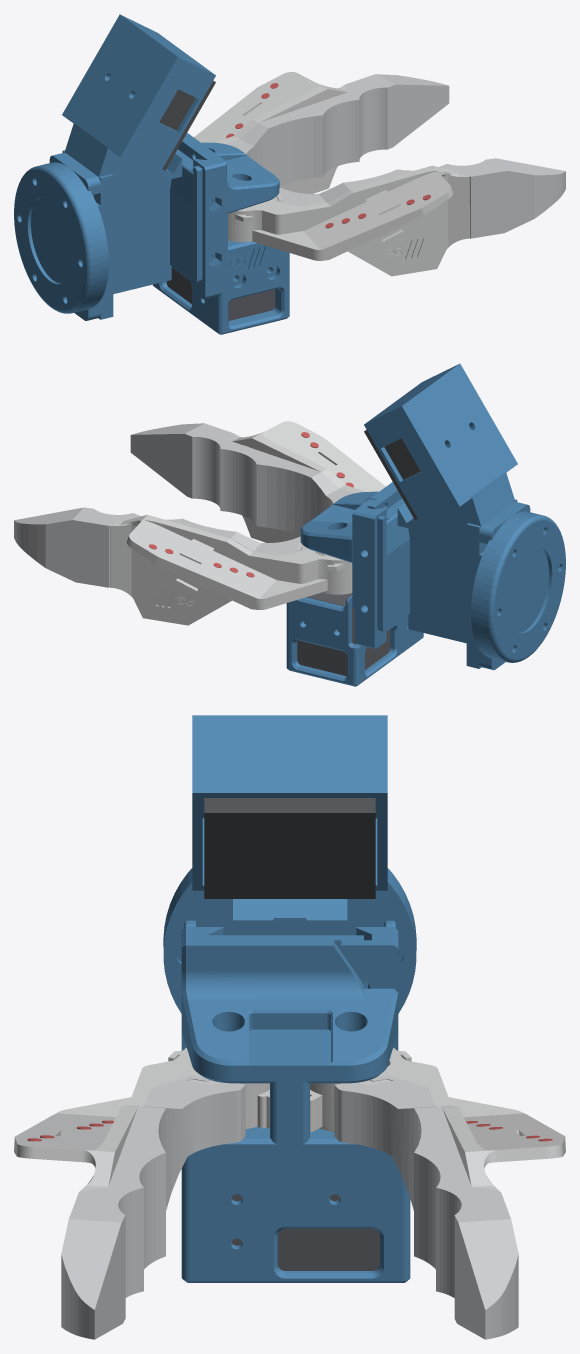
Rendered from pg_chopstick_openarm_d405.glb.
The picture shows the model from 3 angles, top to bottom: view 1: azimuth 30°, elevation 25°; view 2: azimuth 150°, elevation 25°; view 3: azimuth 270°, elevation 25°; orthographic projection. The views are drawn at different scales.
Parts seen in each view (by area): view 1: d405_frame, jaw_right, tip_tpu_left, chopstick_base_sa, openarm_adapter, tip_tpu_right, jaw_left_sa, servo_envelope, d405_envelope; view 2: d405_frame, jaw_left_sa, tip_tpu_right, openarm_adapter, chopstick_base_sa, tip_tpu_left, jaw_right, chopstick_clip_sa, servo_envelope, d405_envelope; view 3: chopstick_base_sa, d405_frame, tip_tpu_right, tip_tpu_left, d405_envelope, jaw_left_sa, jaw_right, openarm_adapter, servo_envelope, chopstick_clip_sa.
Boxes of the visible parts, bbox=[...] form: d405_frame: bbox=[62, 14, 215, 319]; jaw_right: bbox=[228, 165, 469, 276]; tip_tpu_left: bbox=[225, 74, 449, 185]; chopstick_base_sa: bbox=[153, 133, 289, 334]; openarm_adapter: bbox=[14, 152, 108, 320]; tip_tpu_right: bbox=[273, 158, 565, 238]; jaw_left_sa: bbox=[194, 72, 347, 193]; servo_envelope: bbox=[166, 267, 275, 320]; d405_envelope: bbox=[159, 80, 215, 170]; d405_frame: bbox=[364, 363, 517, 668]; jaw_left_sa: bbox=[110, 514, 352, 625]; tip_tpu_right: bbox=[130, 423, 353, 535]; openarm_adapter: bbox=[471, 501, 565, 670]; chopstick_base_sa: bbox=[286, 482, 423, 686]; tip_tpu_left: bbox=[14, 507, 306, 587]; jaw_right: bbox=[232, 421, 385, 542]; chopstick_clip_sa: bbox=[352, 499, 386, 648]; servo_envelope: bbox=[297, 592, 390, 676]; d405_envelope: bbox=[364, 430, 420, 519]; chopstick_base_sa: bbox=[181, 927, 410, 1282]; d405_frame: bbox=[183, 715, 396, 988]; tip_tpu_right: bbox=[61, 1075, 245, 1339]; tip_tpu_left: bbox=[334, 1075, 518, 1339]; d405_envelope: bbox=[204, 798, 375, 898]; jaw_left_sa: bbox=[310, 1047, 565, 1191]; jaw_right: bbox=[14, 1047, 269, 1191]; openarm_adapter: bbox=[163, 868, 416, 1013]; servo_envelope: bbox=[231, 1194, 379, 1270]; chopstick_clip_sa: bbox=[341, 927, 398, 1050].
Size of the model in its own units: 0.2166 by 0.1296 by 0.1352.
